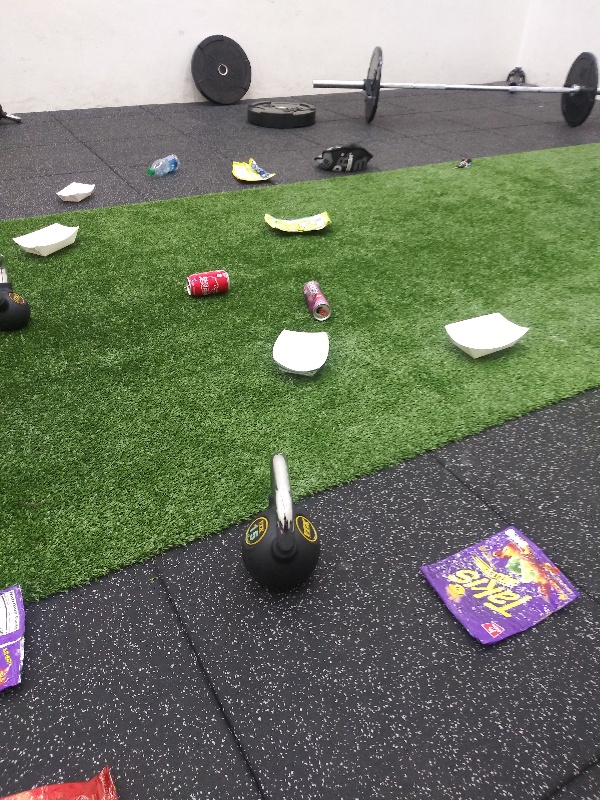bag: (420, 524, 583, 653), (1, 761, 126, 798), (1, 578, 30, 700), (259, 209, 333, 237), (224, 155, 280, 187)
bottle: (143, 154, 187, 180)
can: (181, 266, 232, 303), (299, 278, 336, 323)
plate: (440, 309, 534, 366), (267, 326, 338, 380), (9, 220, 83, 261), (50, 177, 100, 206)
